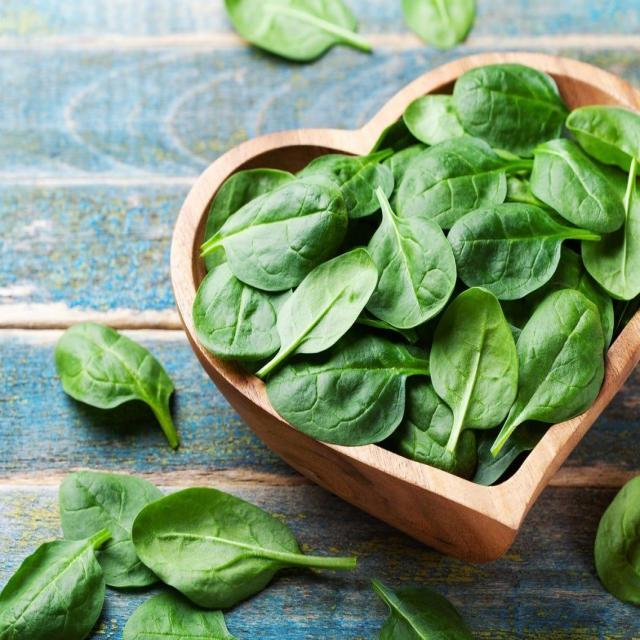Spinach: (186, 53, 640, 503), (2, 462, 364, 640), (50, 318, 194, 468)
